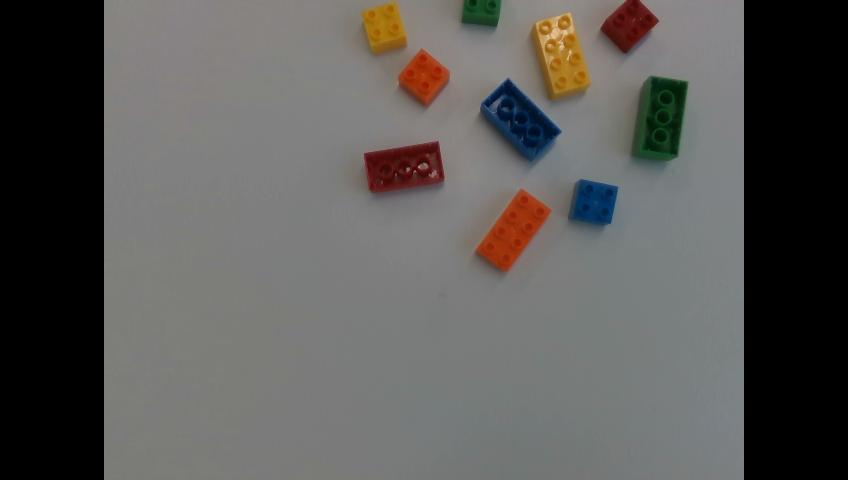2x2_blue: (569, 180, 619, 227)
2x2_orange: (400, 48, 450, 104)
2x2_red: (600, 0, 659, 51)
2x2_yellow: (364, 0, 407, 50)
4x2_blue: (480, 77, 559, 159)
4x2_green: (632, 77, 687, 159), (463, 0, 501, 24)
4x2_orange: (476, 188, 551, 270)
4x2_red: (365, 140, 444, 192)
4x2_yellow: (531, 12, 591, 98)
